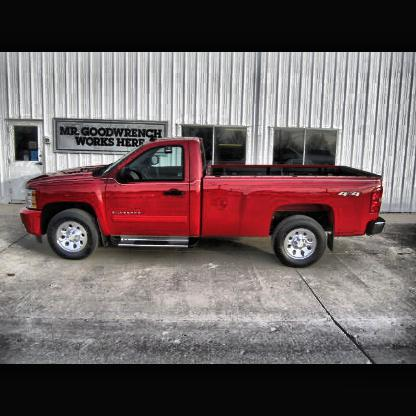Chevrolet Silverado 1500 Regular Cab 2012: (22, 139, 387, 269)
